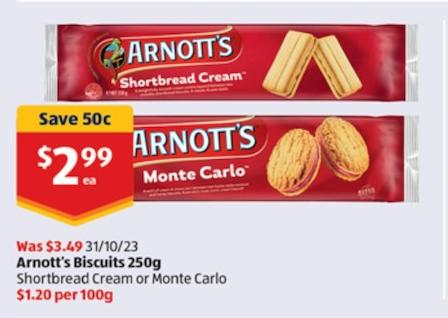description_block: (10, 256, 239, 288)
price_main: (10, 130, 141, 212)
product_image_block: (64, 20, 431, 208)
promo_text_block: (13, 103, 143, 132)
unit_price_block: (9, 283, 118, 307)
